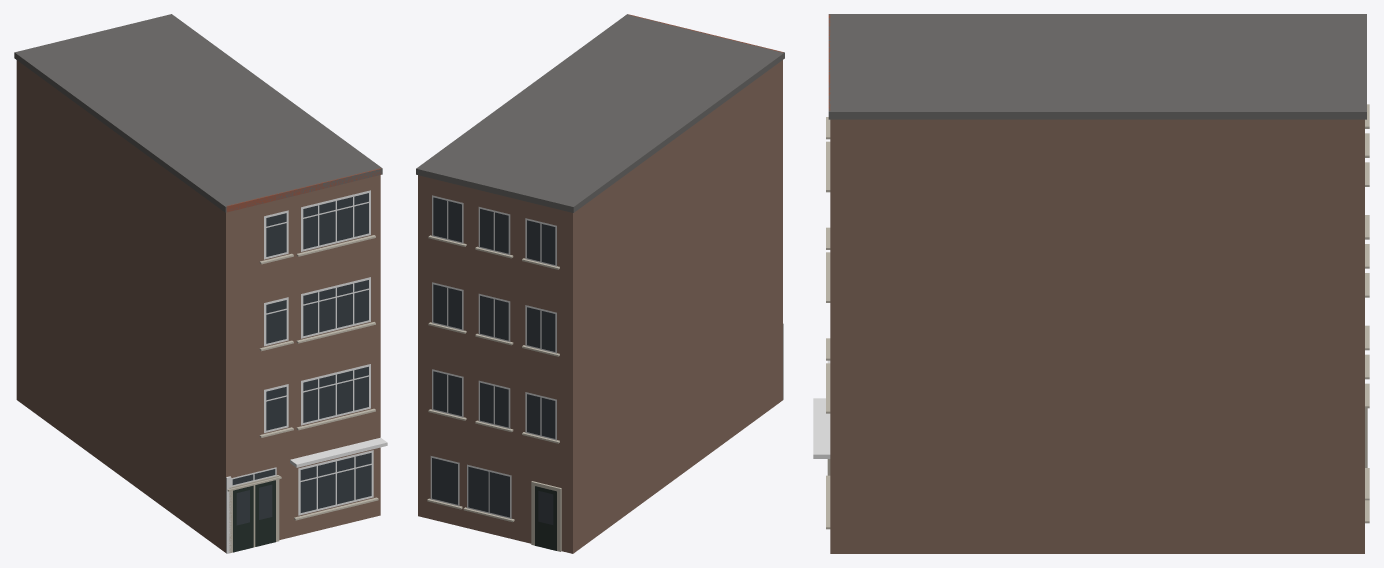
The model's file is we-or-wide__brown__4__flat__long__solid__f0d1__mirror.glb.
The picture shows the model from 3 angles, left to right: view 1: azimuth 30°, elevation 25°; view 2: azimuth 150°, elevation 25°; view 3: azimuth 270°, elevation 25°; orthographic projection. The views are drawn at different scales.
Visible parts, largest first — view 1: we-or-wide__brown__4__flat__long__solid__f0d1__mirror; view 2: we-or-wide__brown__4__flat__long__solid__f0d1__mirror; view 3: we-or-wide__brown__4__flat__long__solid__f0d1__mirror.
Boxes of the visible parts, bbox=[...] form: we-or-wide__brown__4__flat__long__solid__f0d1__mirror: bbox=[14, 14, 387, 553]; we-or-wide__brown__4__flat__long__solid__f0d1__mirror: bbox=[416, 14, 784, 553]; we-or-wide__brown__4__flat__long__solid__f0d1__mirror: bbox=[813, 14, 1369, 553].
Bounding box in the file's own units: 6.07 × 12.8 × 14.57.
